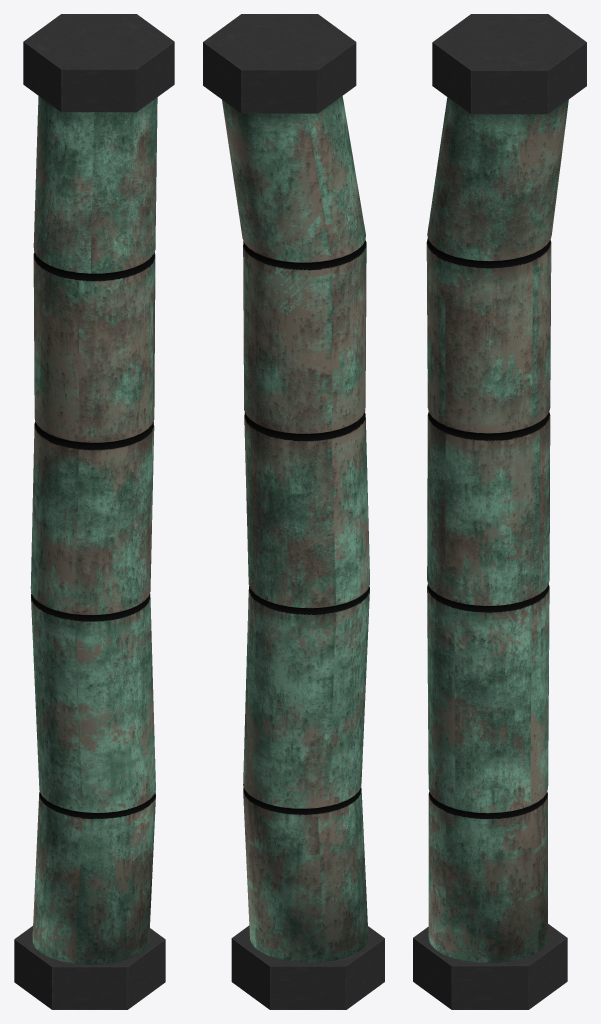
File: PipeBig.fbx
The picture shows the model from 3 angles, left to right: view 1: azimuth 30°, elevation 25°; view 2: azimuth 150°, elevation 25°; view 3: azimuth 270°, elevation 25°; orthographic projection. The views are drawn at different scales.
Parts seen in each view (by area): view 1: Cylinder.005, Cylinder.007, Cylinder.006; view 2: Cylinder.005, Cylinder.007, Cylinder.006; view 3: Cylinder.005, Cylinder.007, Cylinder.006.
Boxes of the visible parts, x1=… form: Cylinder.005: x1=30, y1=96, x2=157, y2=964; Cylinder.007: x1=23, y1=14, x2=174, y2=112; Cylinder.006: x1=14, y1=926, x2=165, y2=1009; Cylinder.005: x1=222, y1=96, x2=369, y2=962; Cylinder.007: x1=203, y1=14, x2=356, y2=113; Cylinder.006: x1=231, y1=925, x2=384, y2=1009; Cylinder.005: x1=426, y1=97, x2=568, y2=962; Cylinder.007: x1=432, y1=14, x2=586, y2=114; Cylinder.006: x1=413, y1=924, x2=567, y2=1009.
Size of the model in its own units: 39.29 by 264 by 43.88.
2 materials, 2 textured.
